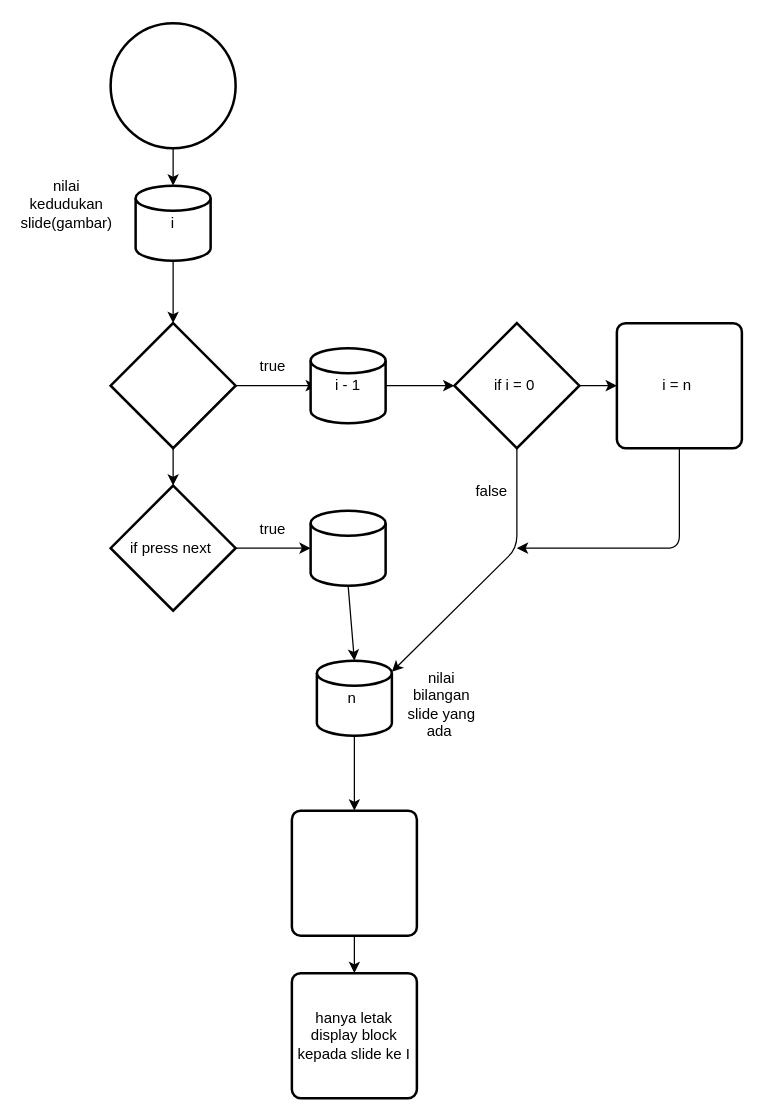
This 765x1120 diagram has some shape labels left out. The shapes that lost their labels are listed below. From the top down, each one's centre as x and y in pixels, then its label:
point 172,85: mula
point 172,385: if press prev
point 347,547: i + 1
point 354,872: semua slide ( display none)
